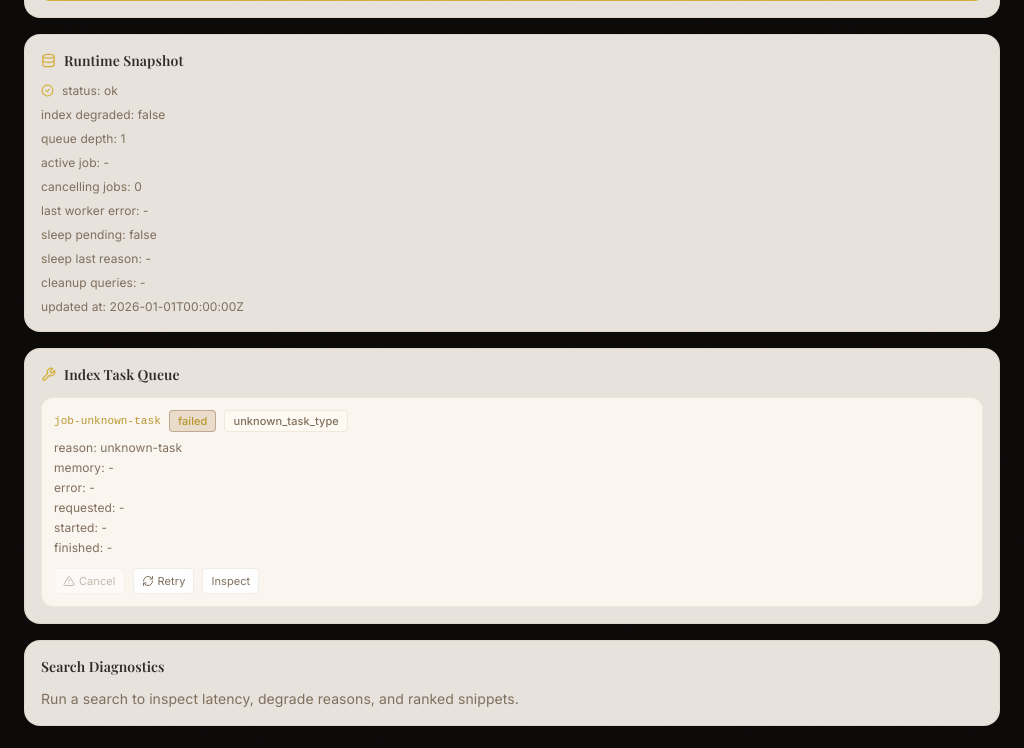
Test: ObservabilityPage › shows explicit error when fallback task type is unsupported
This screenshot has width=1024, height=748.
(page scrolled)
Expected: the text "job-unknown-task" is shown, [54,414,161,426]
Click the button "Retry" at (164, 580), box [133,568,194,594]
(page scrolled)
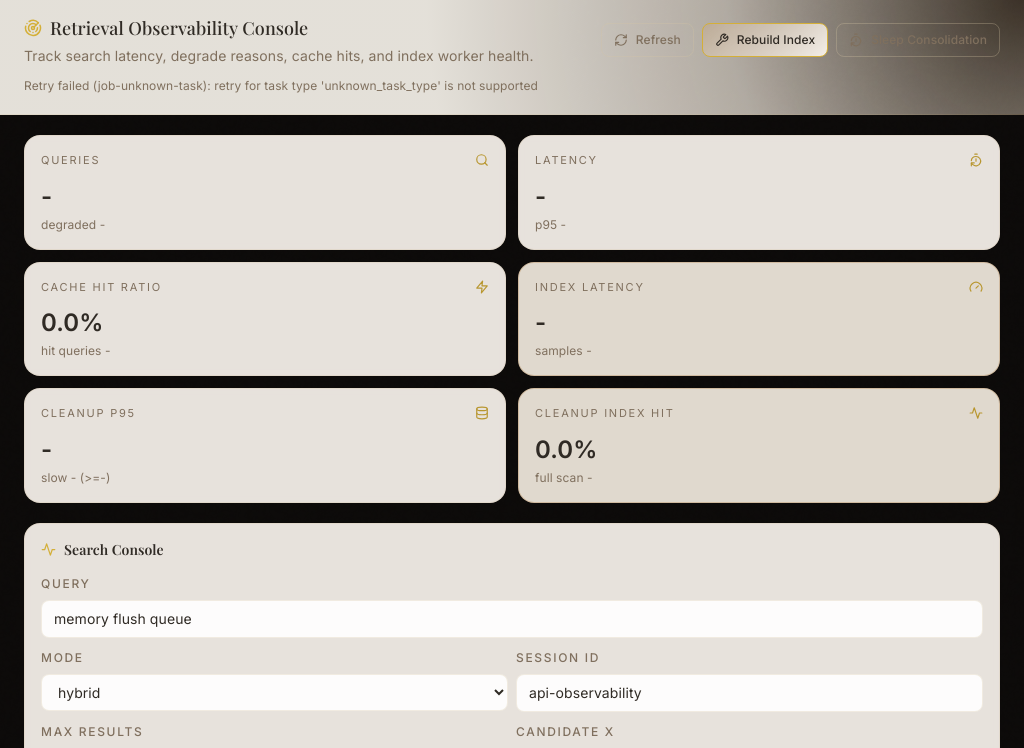
Result: the text "Retry failed (job-unknown-task): retry for task type 'unknown_task_type' is not supported" is shown at [24,78,538,93]
